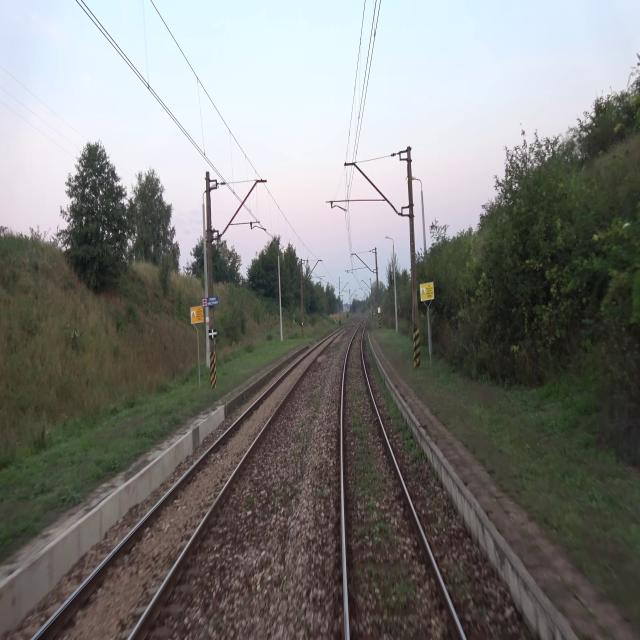rail-track: (36, 341, 326, 639), (343, 319, 462, 639)
